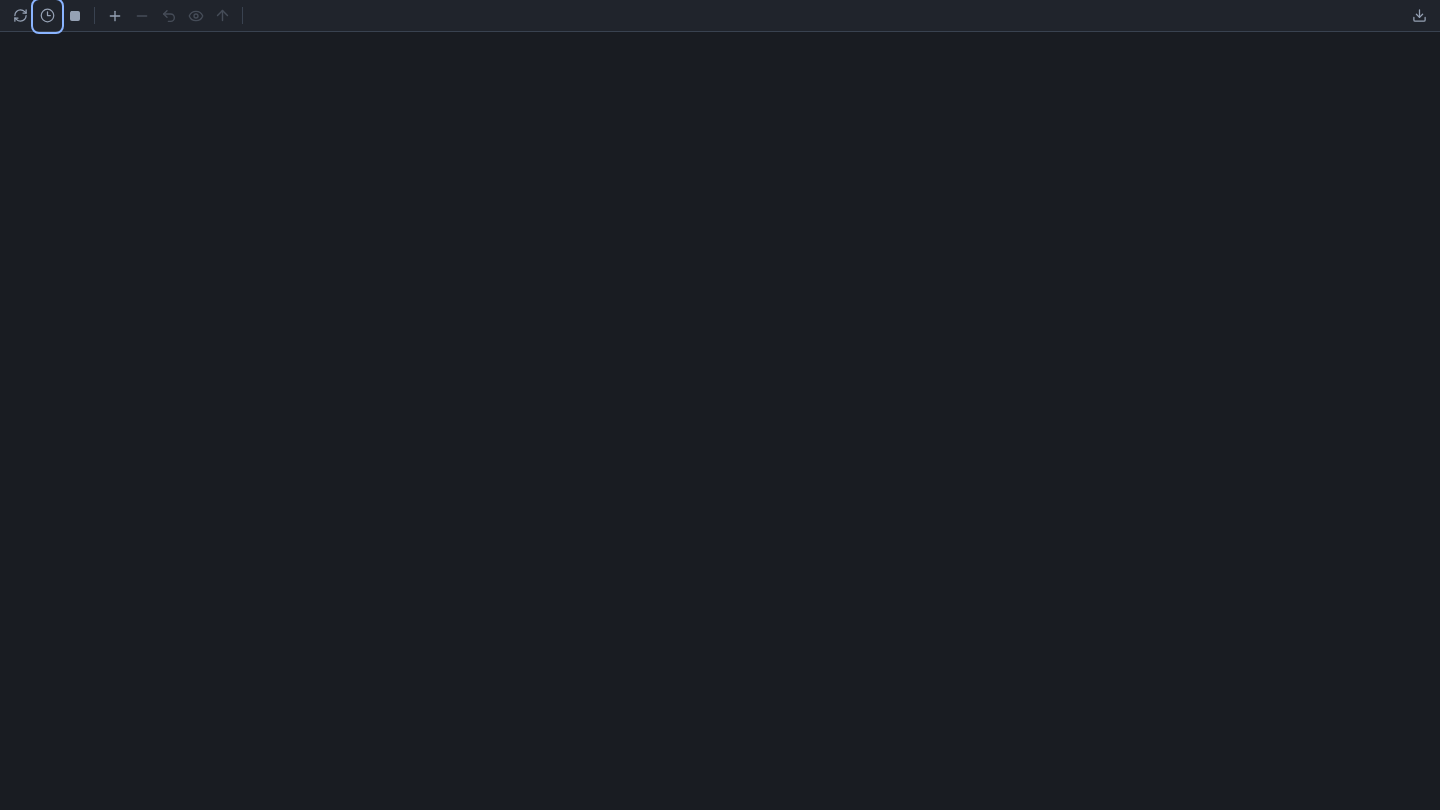
Scenario: offers interval presets and validates a custom interval
The width and height of the screenshot is (1440, 810).
Earlier steps of the test are not shown.
Click the button named "Auto-refresh" at (48, 16), box [35,2,60,30]
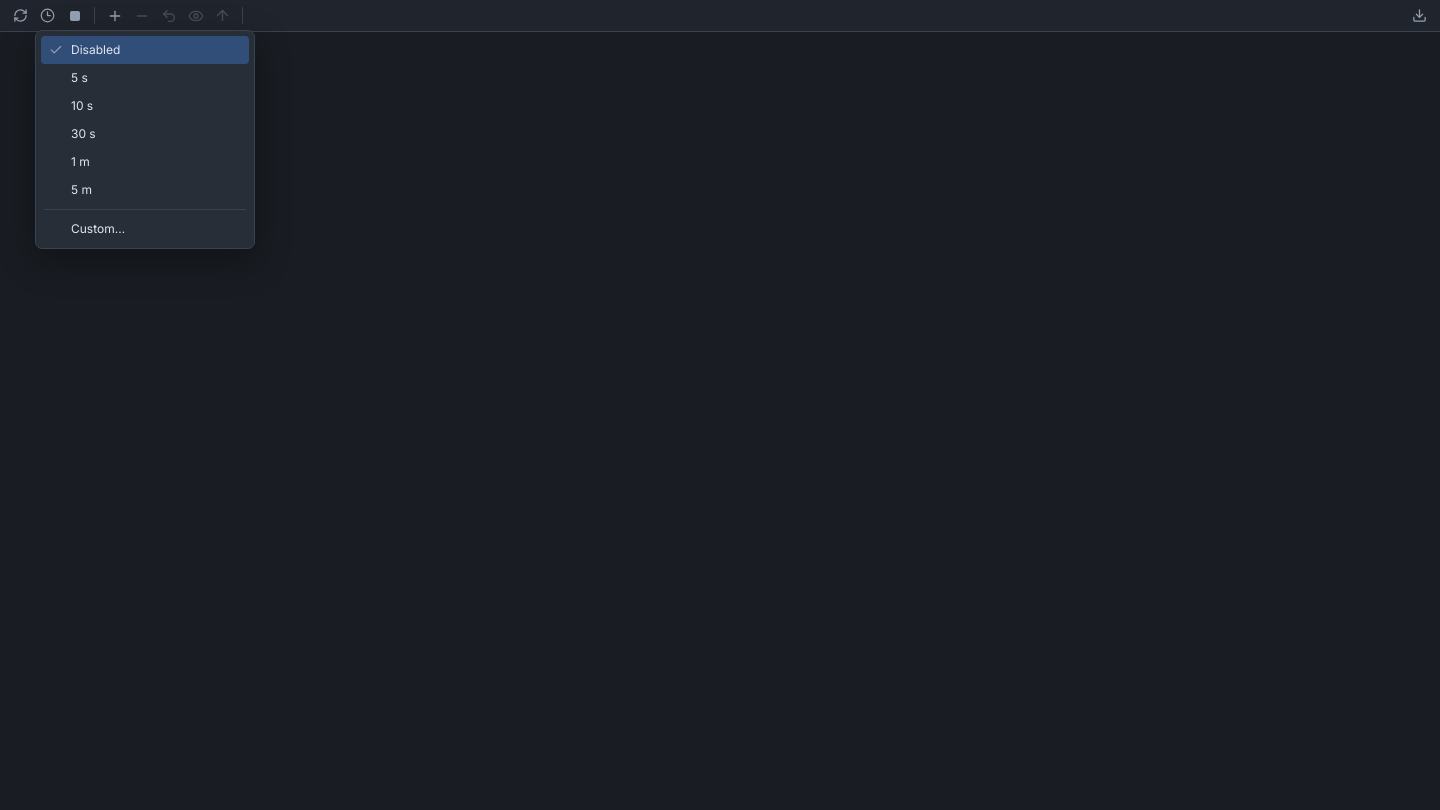
Click the menu item "Custom…" at (145, 228), box [41,214,249,242]
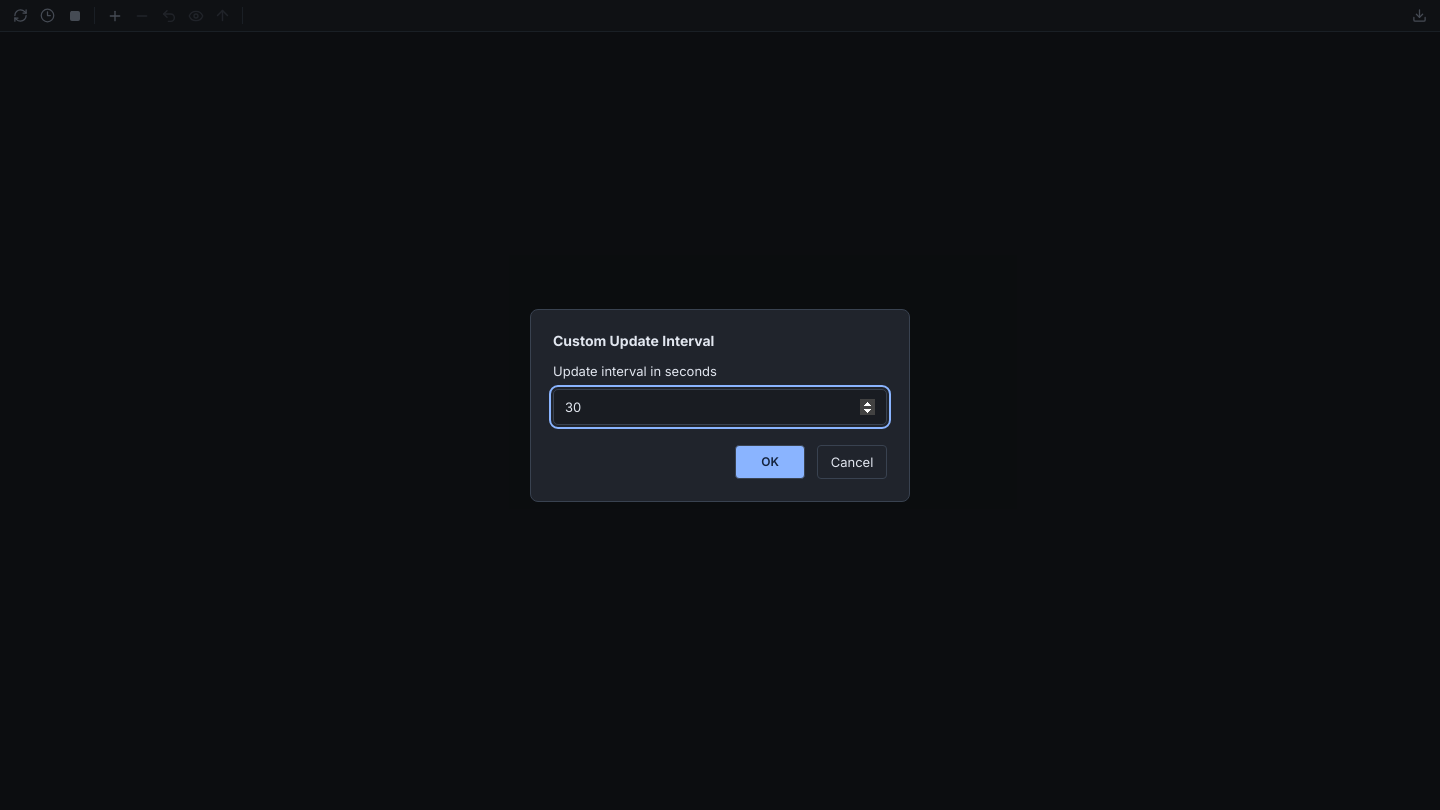
Replace the text in the number field labelled "Update interval in seconds" with "0" at (720, 406), box [553,388,887,424]
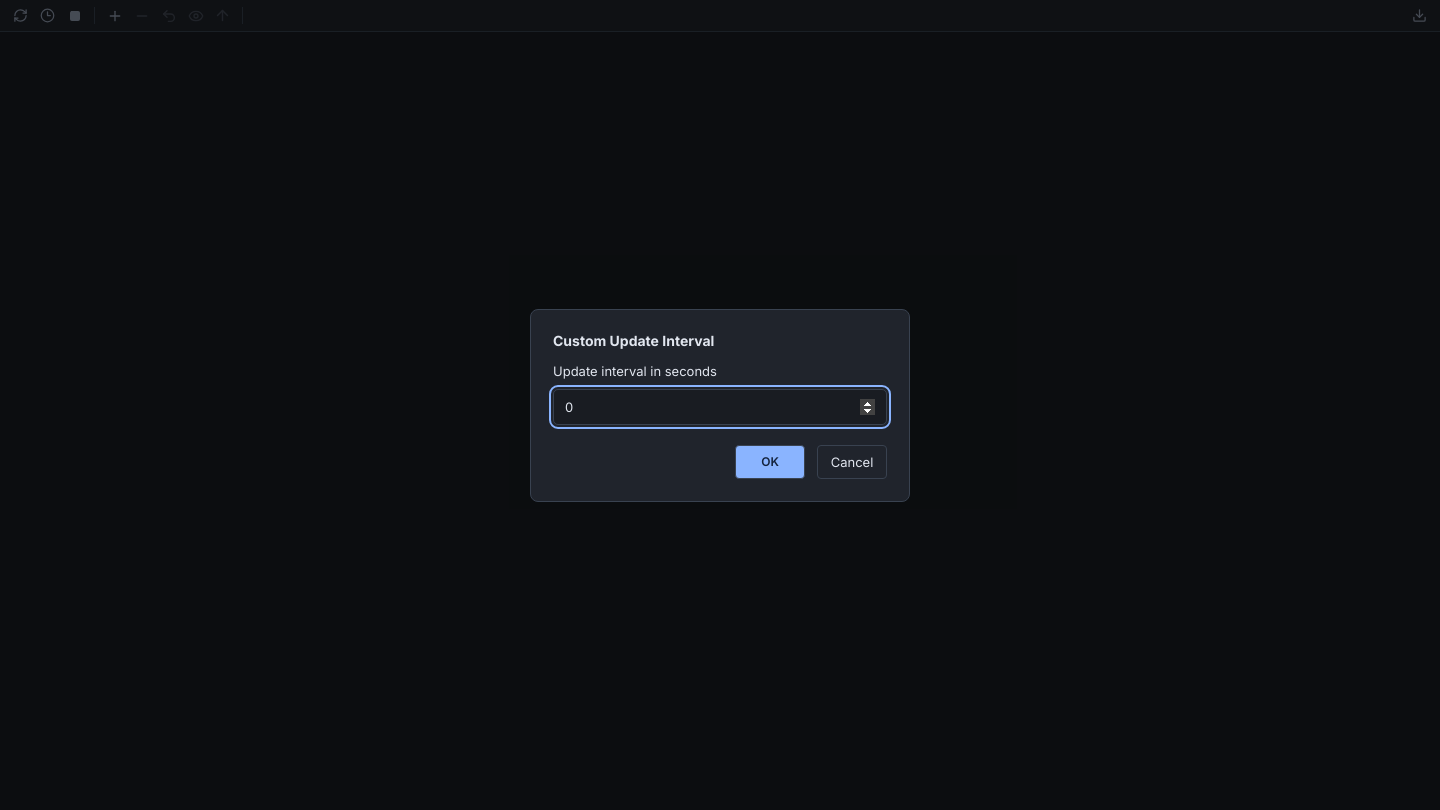
Submit the form labelled "Update interval in seconds", box [553,332,887,478]
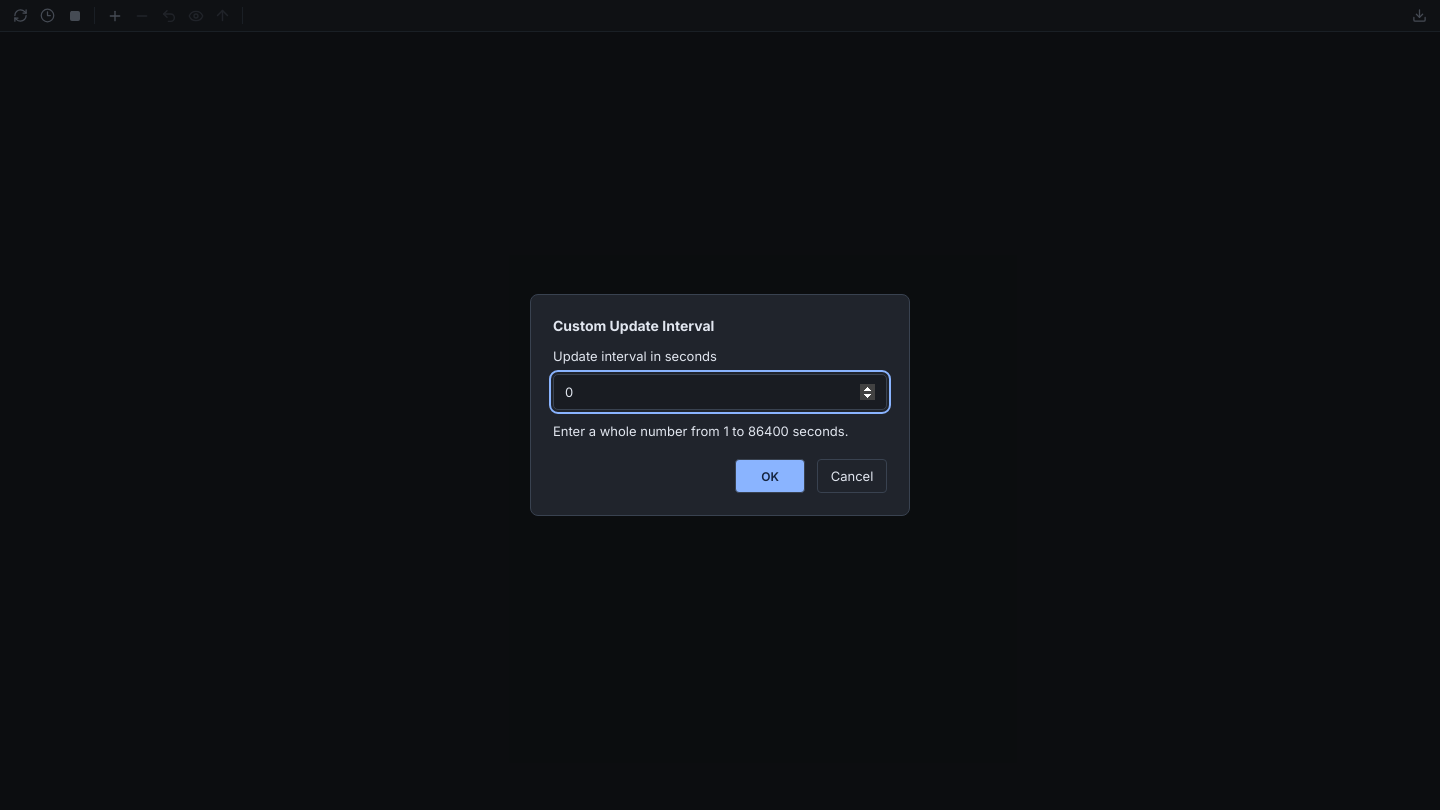
Check: the message "Enter a whole number from 1 to 86400 seconds." is shown, box [553,423,887,439]
Replace the text in the number field labelled "Update interval in seconds" with "17" at (720, 392), box [553,374,887,410]
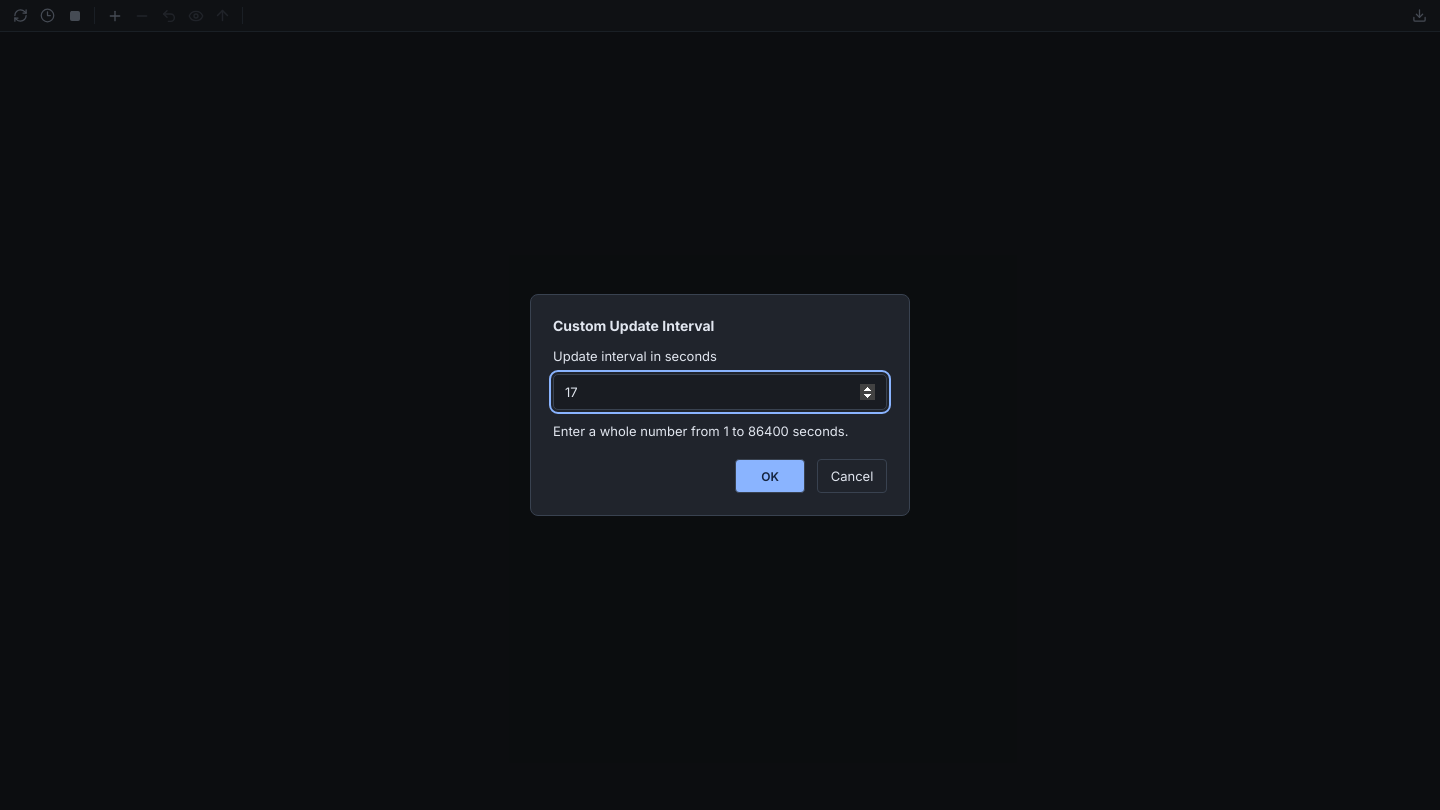
Submit the form labelled "Update interval in seconds", box [553,317,887,493]
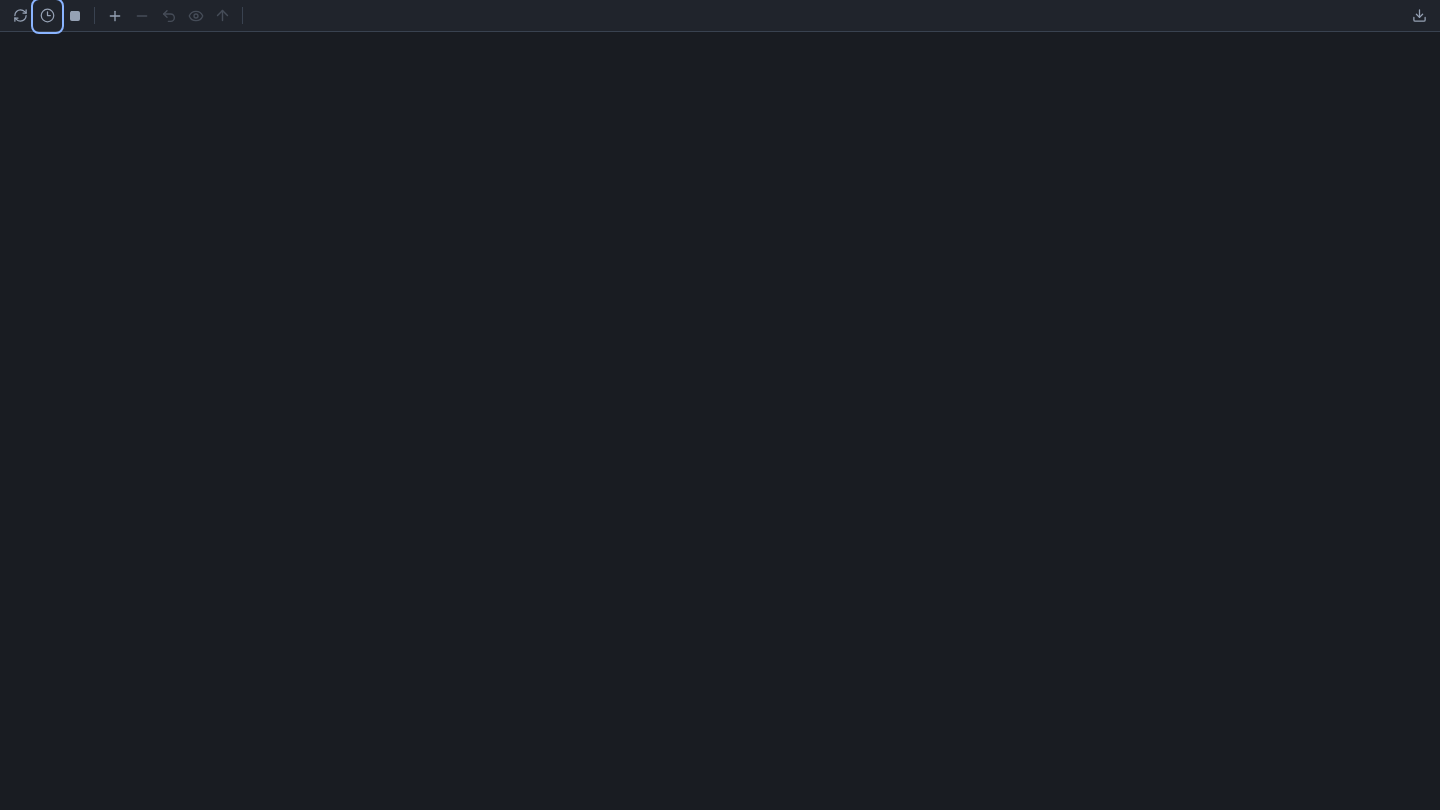
Check: the dialog is gone
